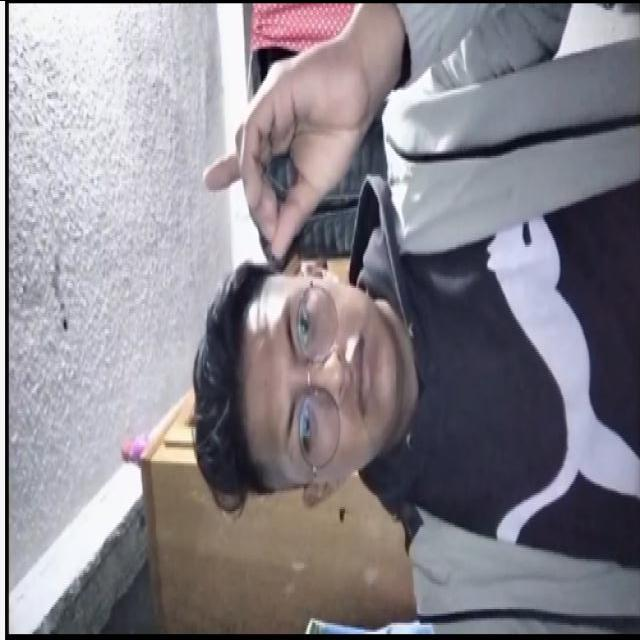D: (198, 28, 390, 266)
